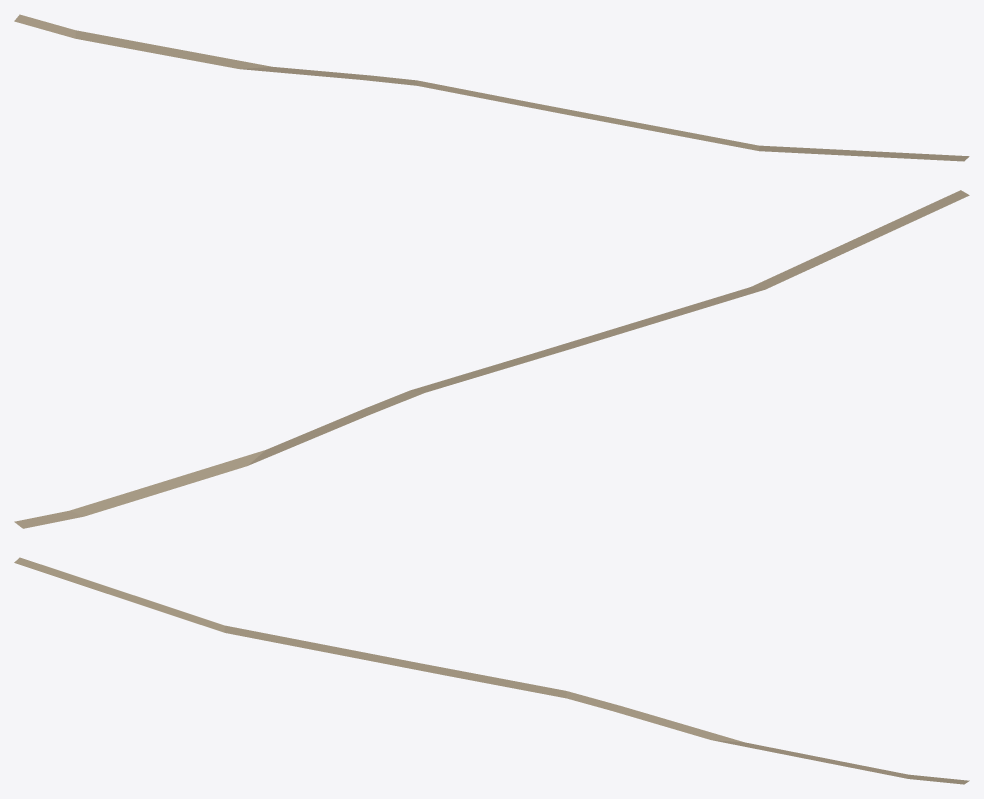
File: farm_-34_-30_track.glb
3 views of the same model, one above another, from view 1: azimuth 90°, elevation 25°; view 2: azimuth 150°, elevation 25°; view 3: azimuth 270°, elevation 25° (orthographic). The views are drawn at different scales.
Visible parts, largest first — view 1: geometry_0; view 2: geometry_0; view 3: geometry_0.
Boxes of the visible parts, x1=… form: geometry_0: x1=14, y1=14, x2=969, y2=161; geometry_0: x1=14, y1=190, x2=969, y2=528; geometry_0: x1=14, y1=557, x2=969, y2=784.
Size of the model in its own units: 104 by 12.2 by 224.
